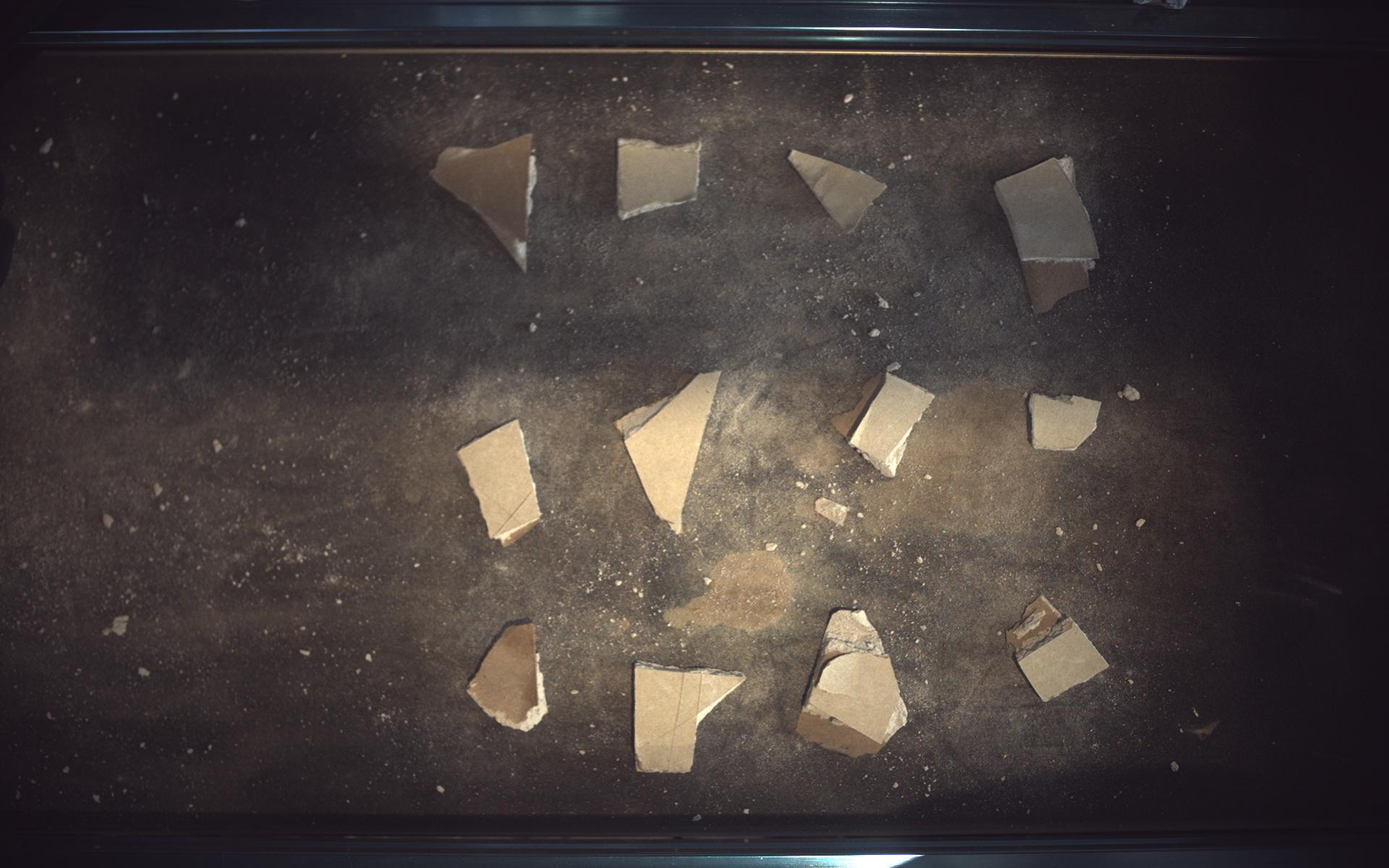gypsum_board: (616, 370, 721, 534), (798, 610, 909, 759), (996, 156, 1102, 312), (430, 132, 538, 271), (634, 663, 746, 775), (1008, 596, 1111, 703), (833, 371, 936, 477), (458, 420, 541, 547), (468, 624, 548, 733), (790, 149, 888, 231), (618, 137, 702, 219), (1031, 393, 1103, 451)
